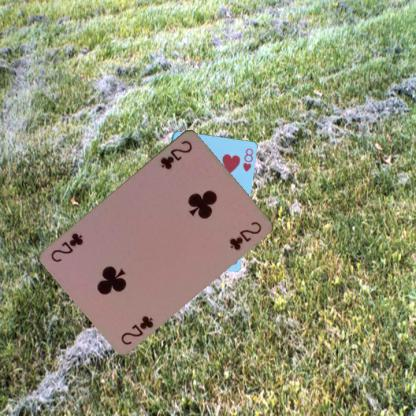2c: (157, 137, 194, 172), (118, 313, 156, 346)
